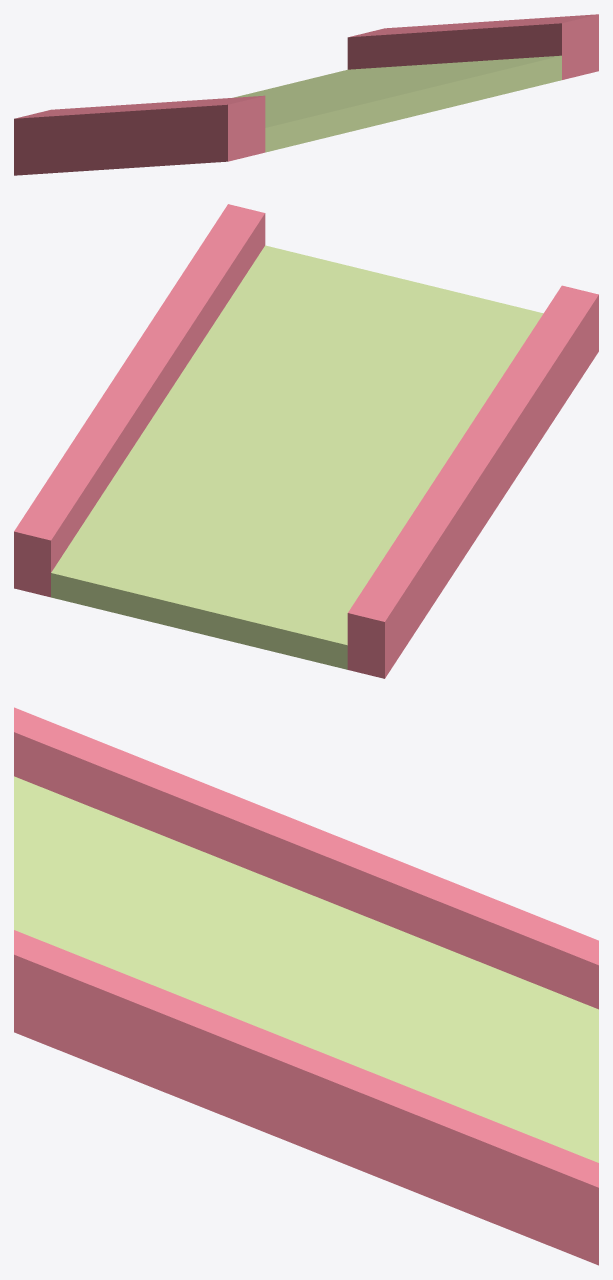
Rendered from rampC.fbx.
The picture shows the model from 3 angles, top to bottom: view 1: azimuth 30°, elevation 25°; view 2: azimuth 150°, elevation 25°; view 3: azimuth 270°, elevation 25°; orthographic projection. The views are drawn at different scales.
Parts seen in each view (by area): view 1: rampC; view 2: rampC; view 3: rampC.
Boxes of the visible parts, x1,y1,x2,y2 form: rampC: (14,14,598,175); rampC: (14,204,598,678); rampC: (14,707,598,1265).
Bounding box in the file's own units: 99.99 × 58.66 × 99.99.
